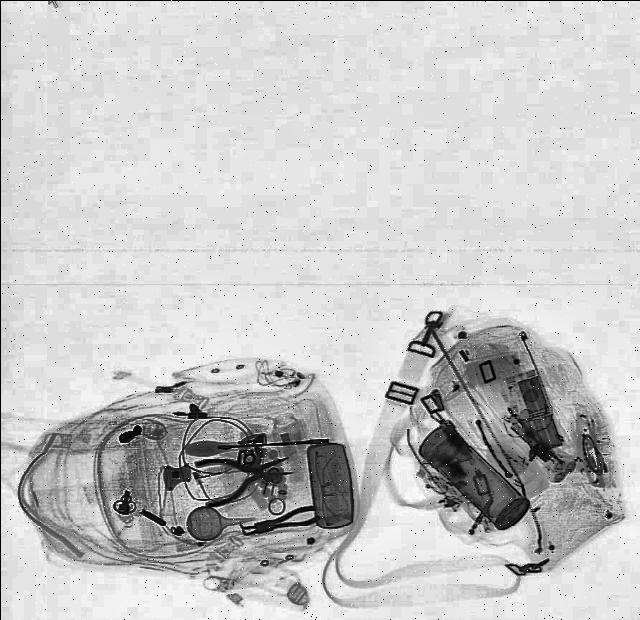Pliers: (193, 444, 295, 506), (237, 502, 319, 540)
